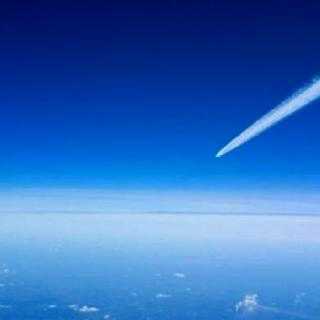Contrails: (209, 61, 320, 170)
